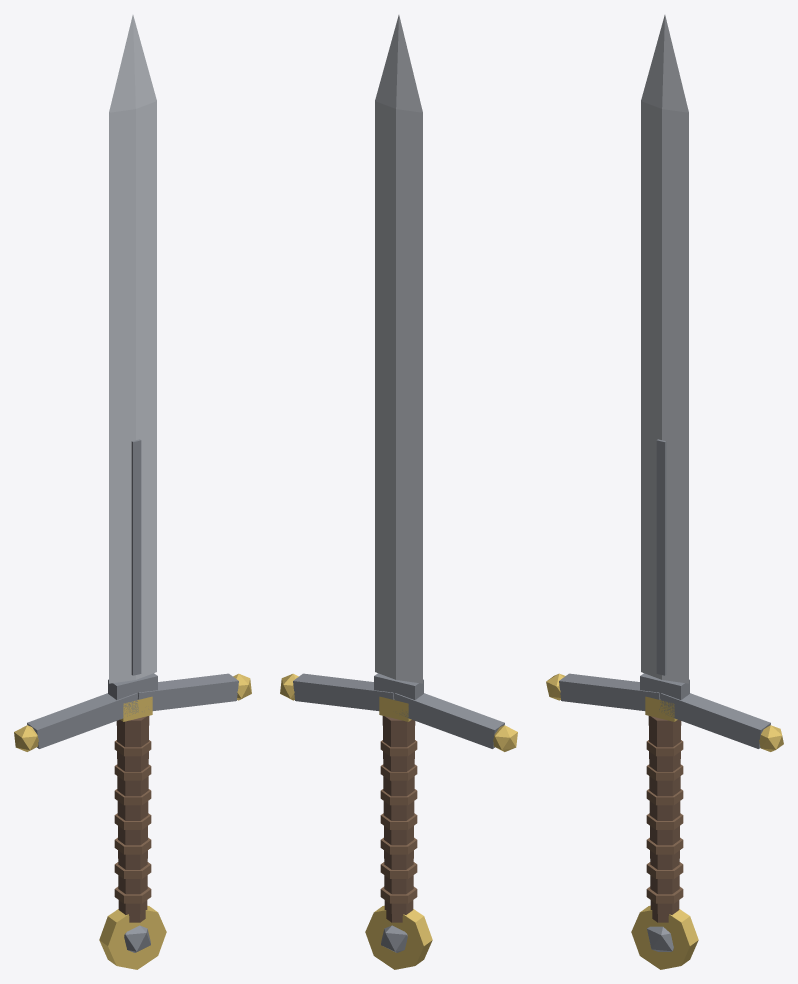
The model's file is Weapon_Longsword.glb.
3 renders of one model, left to right at view 1: azimuth 30°, elevation 25°; view 2: azimuth 150°, elevation 25°; view 3: azimuth 330°, elevation 25°, orthographic.
Parts seen in each view (by area): view 1: Longsword; view 2: Longsword; view 3: Longsword.
Part boxes in pixels (bbox=[...]): Longsword: bbox=[14, 15, 251, 969]; Longsword: bbox=[280, 15, 517, 969]; Longsword: bbox=[546, 15, 783, 969].
Size of the model in its own units: 0.3994 by 1.55 by 0.054.
